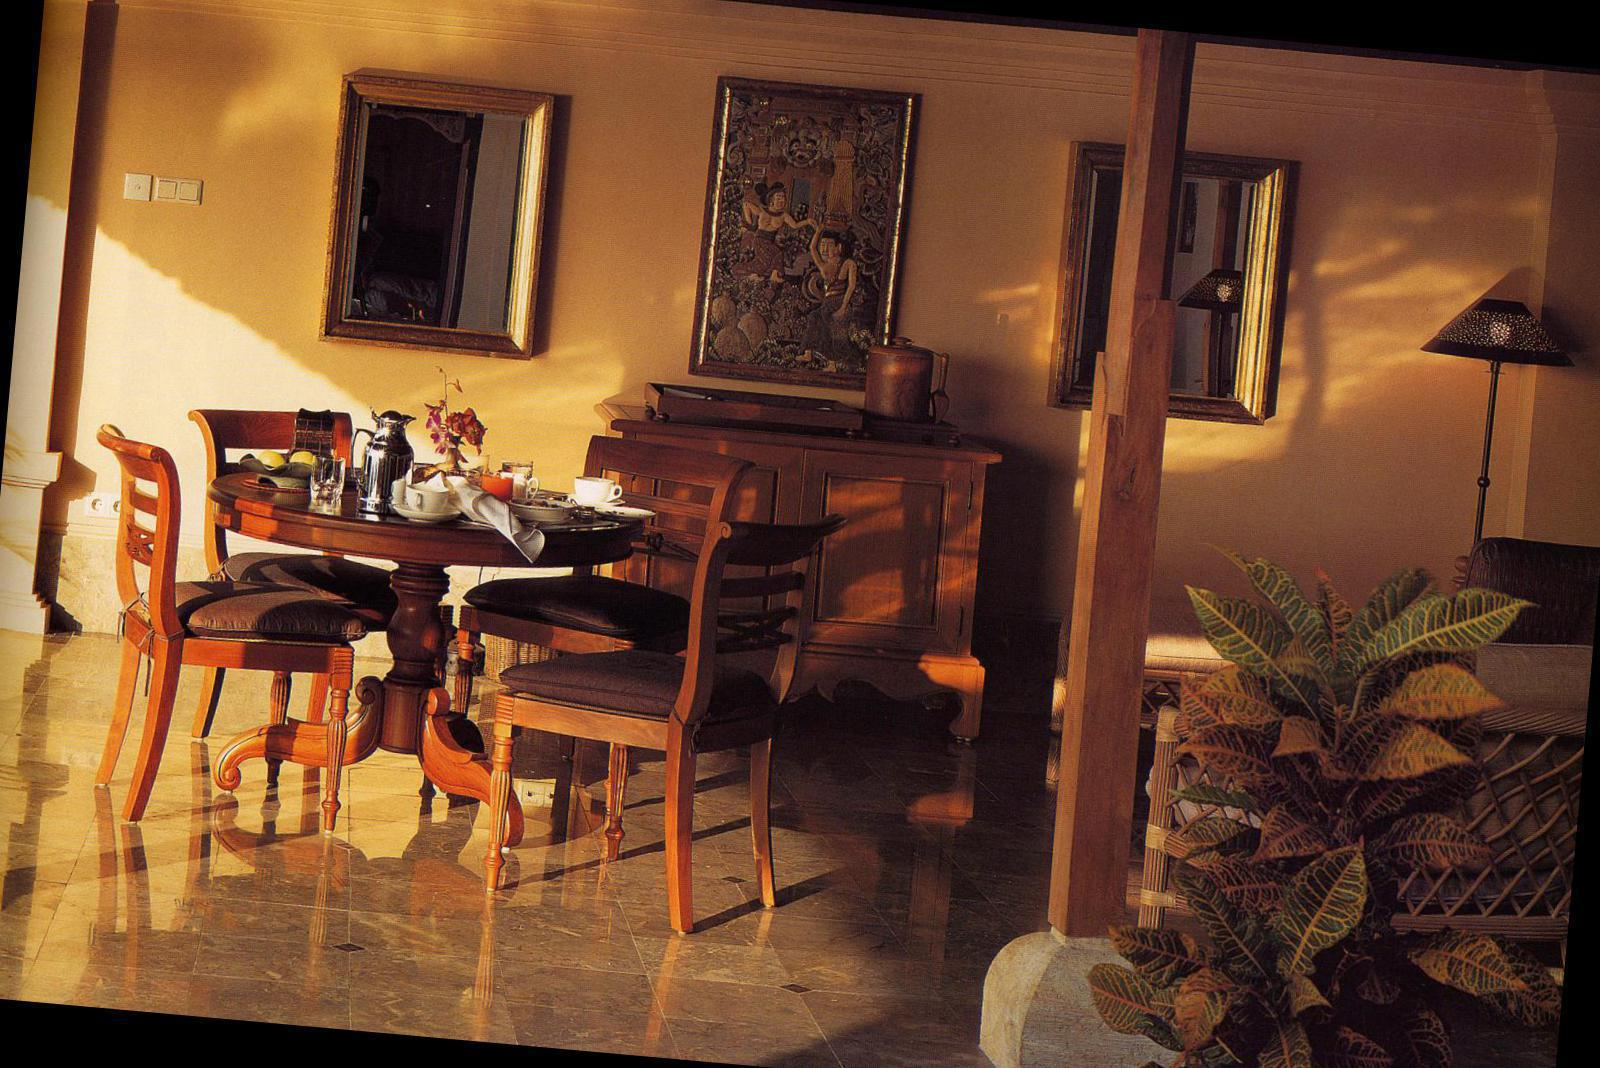Matera: (1104, 561, 1573, 1068)
